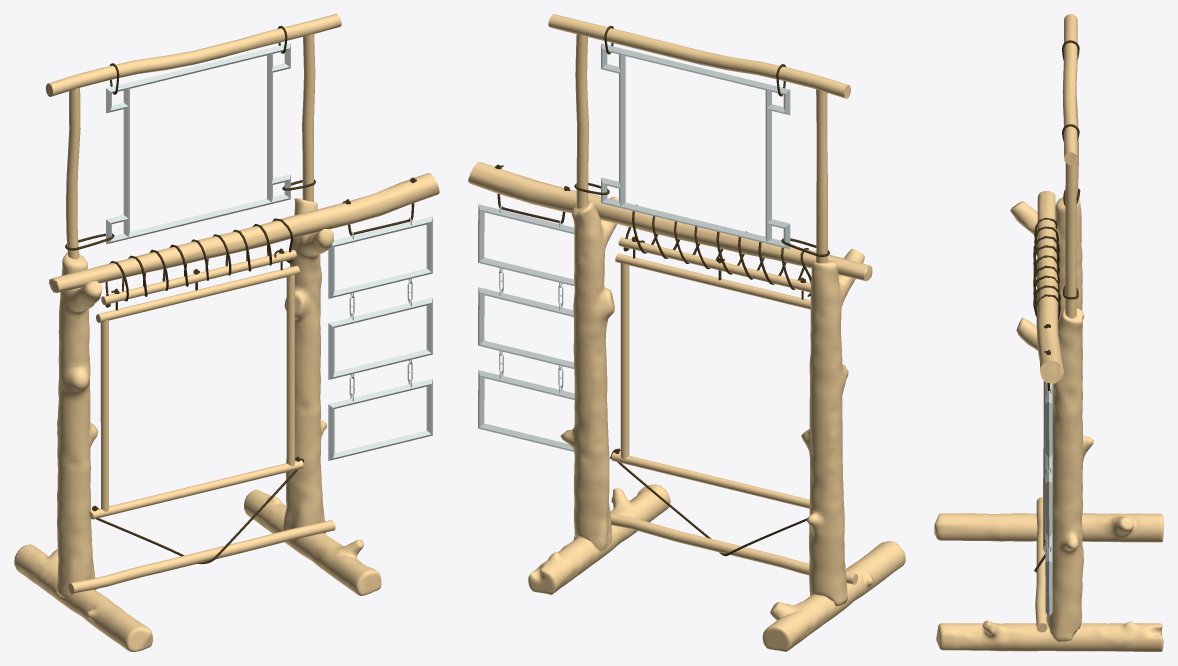
The model's file is loom15.fbx.
The picture shows the model from 3 angles, left to right: view 1: azimuth 30°, elevation 25°; view 2: azimuth 150°, elevation 25°; view 3: azimuth 270°, elevation 25°; orthographic projection. The views are drawn at different scales.
Parts seen in each view (by area): view 1: wood, Post_Low, Buttons, Rope; view 2: Post_Low, wood, Buttons, Rope; view 3: Post_Low, wood, Buttons, Rope.
Part boxes in pixels (<box>): wood: <box>45,14,439,594</box>; Post_Low: <box>14,198,381,651</box>; Buttons: <box>106,43,432,460</box>; Rope: <box>65,25,416,564</box>; Post_Low: <box>528,196,905,651</box>; wood: <box>468,14,872,584</box>; Buttons: <box>478,43,790,451</box>; Rope: <box>495,25,829,556</box>; Post_Low: <box>934,197,1163,651</box>; wood: <box>1035,14,1078,632</box>; Buttons: <box>1045,382,1052,616</box>; Rope: <box>1033,40,1080,572</box>.
Size of the model in its own units: 431 by 565 by 227.
